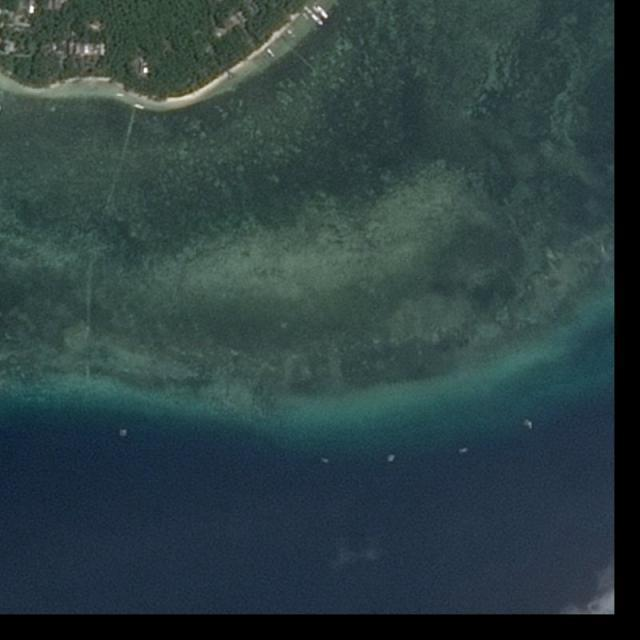ship: (314, 5, 330, 21), (522, 419, 536, 432), (313, 15, 324, 26), (387, 454, 397, 465), (458, 448, 470, 457), (321, 457, 331, 465), (118, 430, 128, 437)
